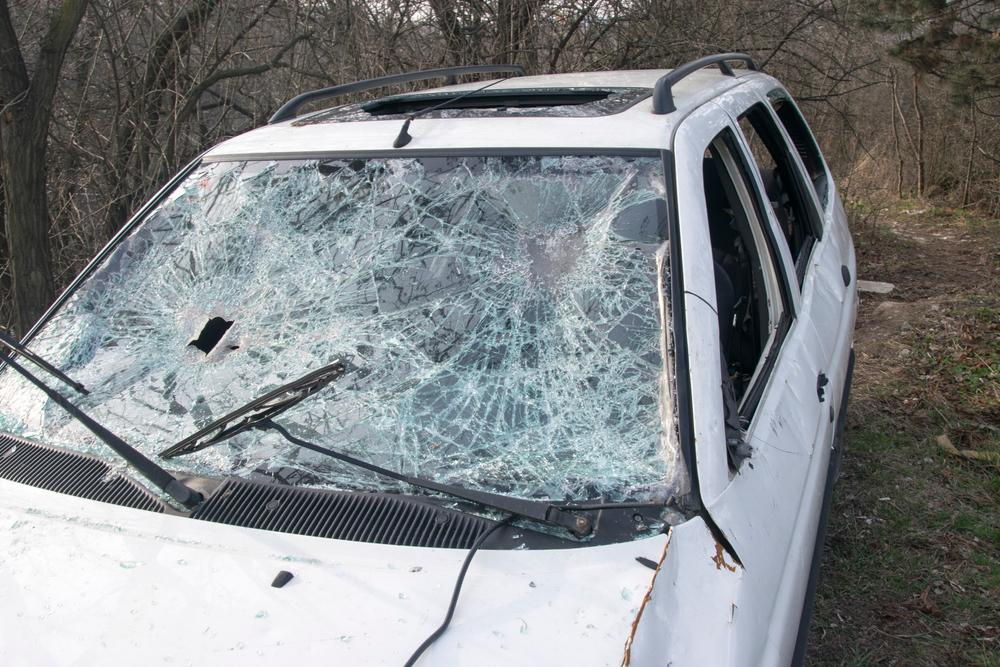crack: (699, 508, 748, 574)
glass shatter: (0, 155, 683, 499)
